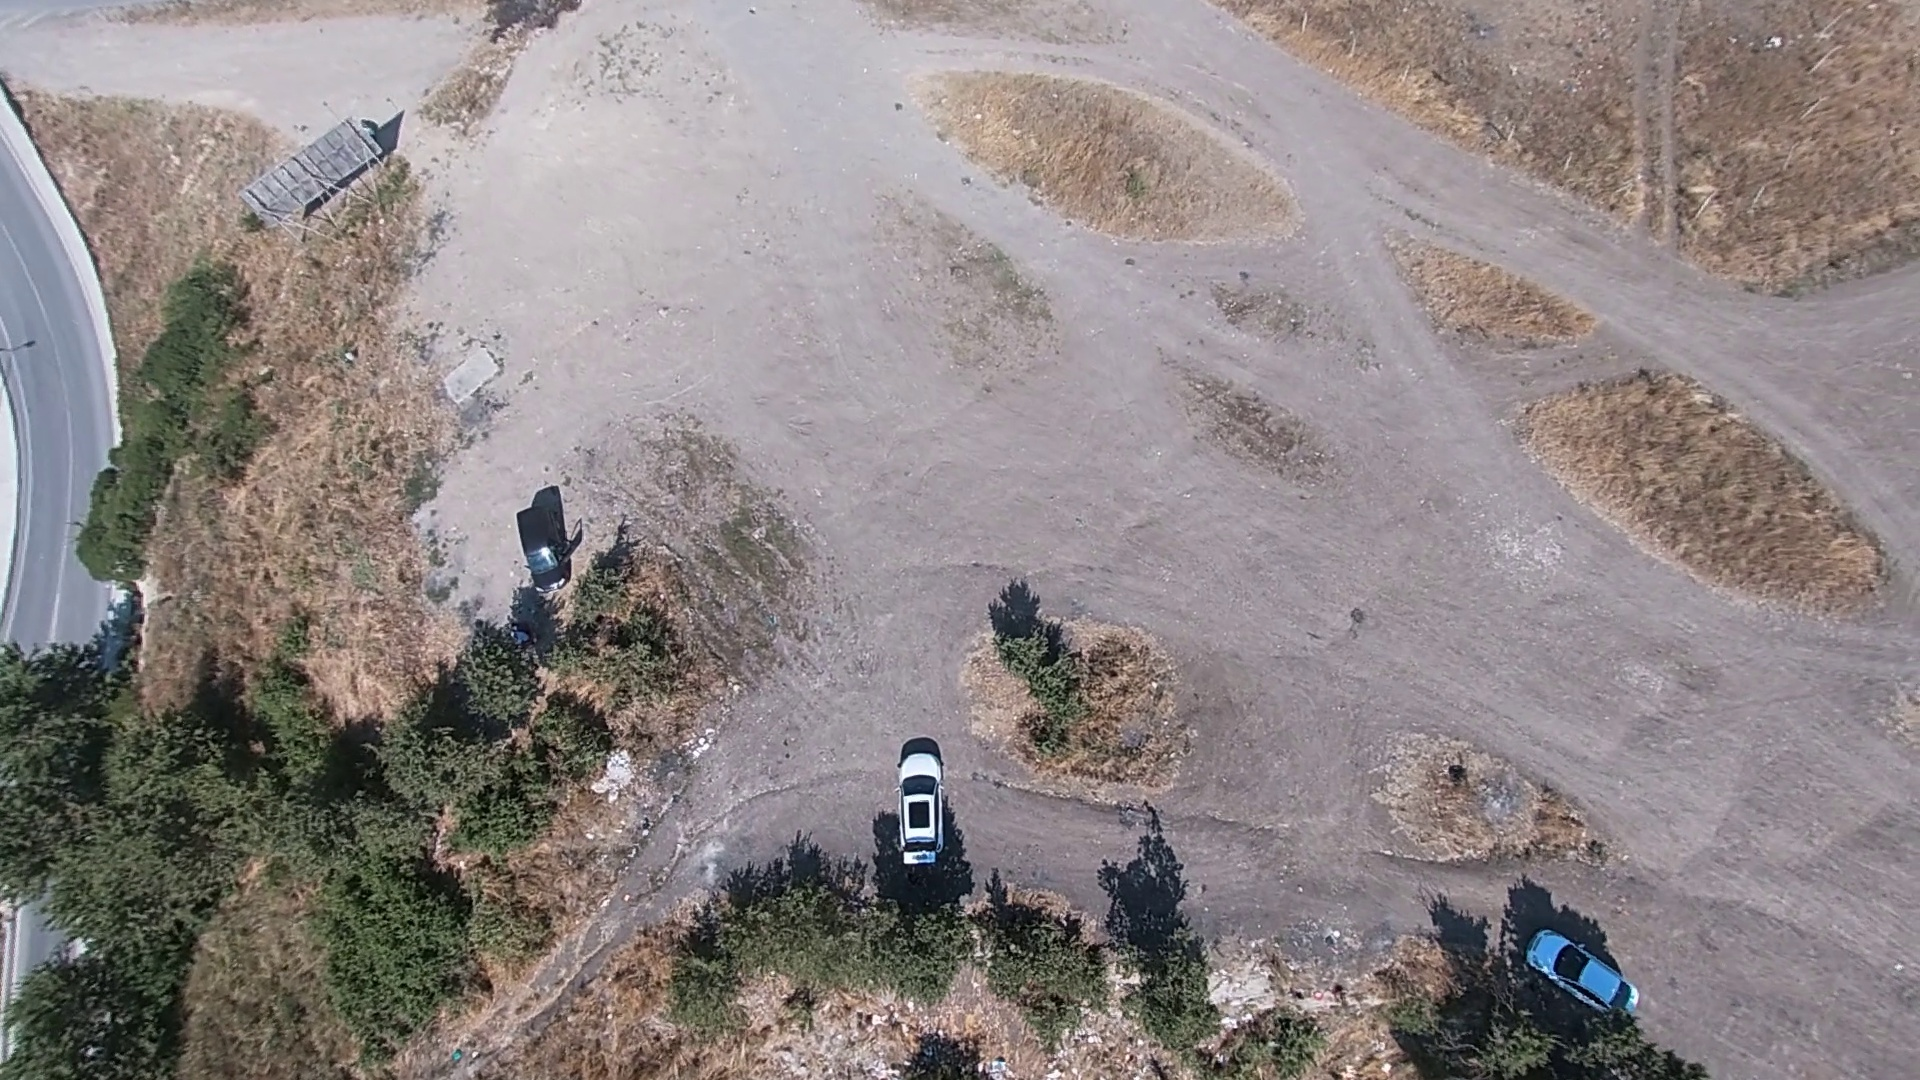araba: (1530, 924, 1640, 1017), (506, 493, 576, 597), (891, 752, 945, 865)
